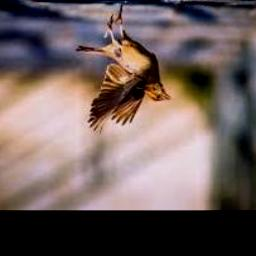Sparrow: (77, 1, 172, 135)
